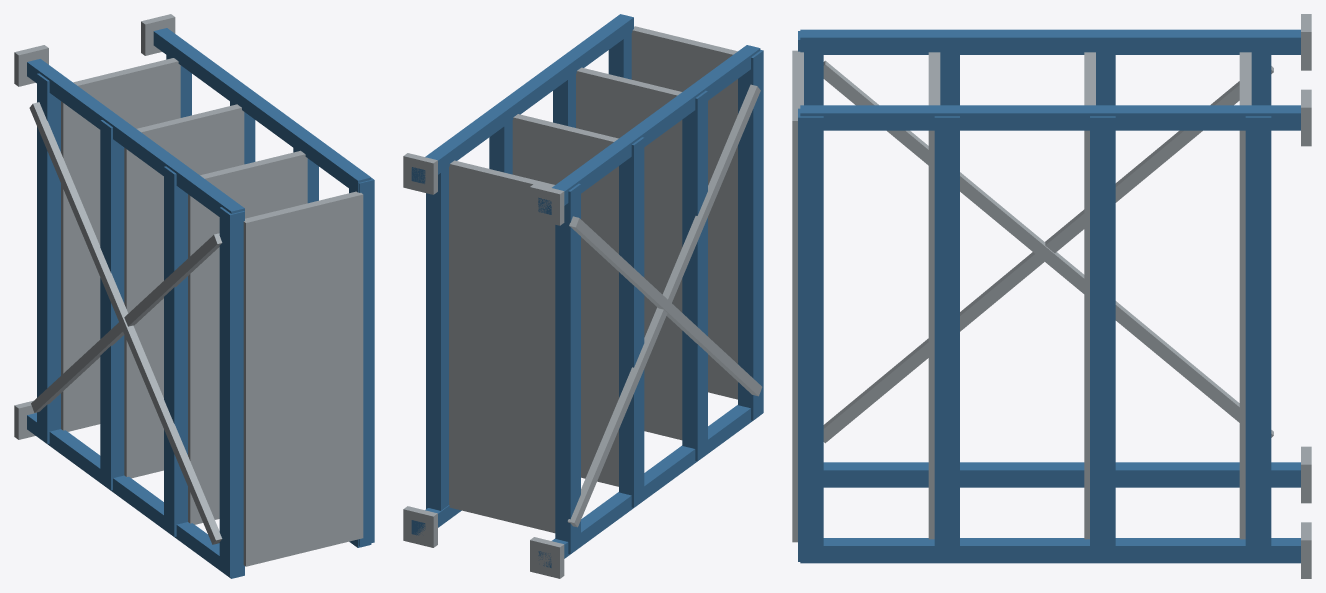
File: rack.glb
3 renders of one model, left to right at view 1: azimuth 30°, elevation 25°; view 2: azimuth 150°, elevation 25°; view 3: azimuth 270°, elevation 25°, orthographic. The views are drawn at different scales.
Visible parts, largest first — view 1: deck-3, deck-1, deck-0, deck-2, beam-rear-3, beam-rear-1, beam-rear-0, beam-rear-2, rear-brace-b, upright-0.42-1.12, upright--0.42-1.12, beam-front-3 (+8 smaller); view 2: deck-0, deck-2, deck-1, deck-3, beam-rear-0, beam-rear-3, beam-rear-1, beam-rear-2, beam-front-0, upright-0.42-1.12, rear-brace-a, upright--0.42-1.12 (+10 smaller); view 3: upright--0.42-1.12, beam-front-0, upright-0.42-1.12, beam-front-3, beam-front-1, beam-front-2, upright-0.42--1.12, upright--0.42--1.12, rear-brace-a, rear-brace-b, deck-0, deck-2 (+6 smaller).
Part boxes in pixels (x1,y1,x2,y2): deck-3: (243, 191, 363, 566); deck-1: (124, 104, 244, 478); deck-0: (61, 58, 180, 431); deck-2: (188, 150, 307, 524); beam-rear-3: (219, 207, 244, 577); beam-rear-1: (100, 120, 124, 490); beam-rear-0: (37, 73, 60, 443); beam-rear-2: (164, 166, 187, 536); rear-brace-b: (29, 102, 222, 544); upright-0.42-1.12: (153, 28, 371, 192); upright--0.42-1.12: (27, 59, 244, 216); beam-front-3: (349, 178, 374, 545); deck-0: (449, 160, 555, 533); deck-2: (576, 67, 682, 440); deck-1: (512, 114, 618, 486); deck-3: (631, 26, 737, 399); beam-rear-0: (555, 183, 580, 554); beam-rear-3: (738, 49, 763, 420); beam-rear-1: (619, 137, 644, 507); beam-rear-2: (682, 90, 707, 461); beam-front-0: (426, 167, 448, 510); upright-0.42-1.12: (411, 14, 633, 183); rear-brace-a: (567, 84, 760, 527); upright--0.42-1.12: (538, 45, 760, 214); upright--0.42-1.12: (800, 29, 1300, 54); beam-front-0: (1245, 116, 1271, 561); upright-0.42-1.12: (800, 105, 1300, 130); beam-front-3: (798, 108, 823, 561); beam-front-1: (1090, 116, 1115, 561); beam-front-2: (934, 116, 959, 561); upright-0.42--1.12: (800, 538, 1300, 563); upright--0.42--1.12: (823, 462, 1300, 487); rear-brace-a: (823, 60, 1273, 437); rear-brace-b: (823, 66, 1273, 443); deck-0: (1239, 52, 1251, 539); deck-2: (928, 52, 940, 539).
Size of the model in its own units: 1.04 by 2.44 by 2.44.
